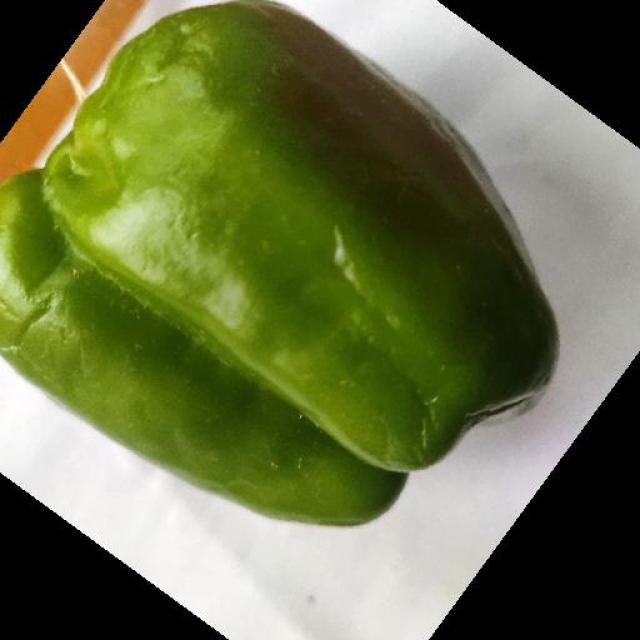Stale_Capsicum: (18, 82, 492, 443)
